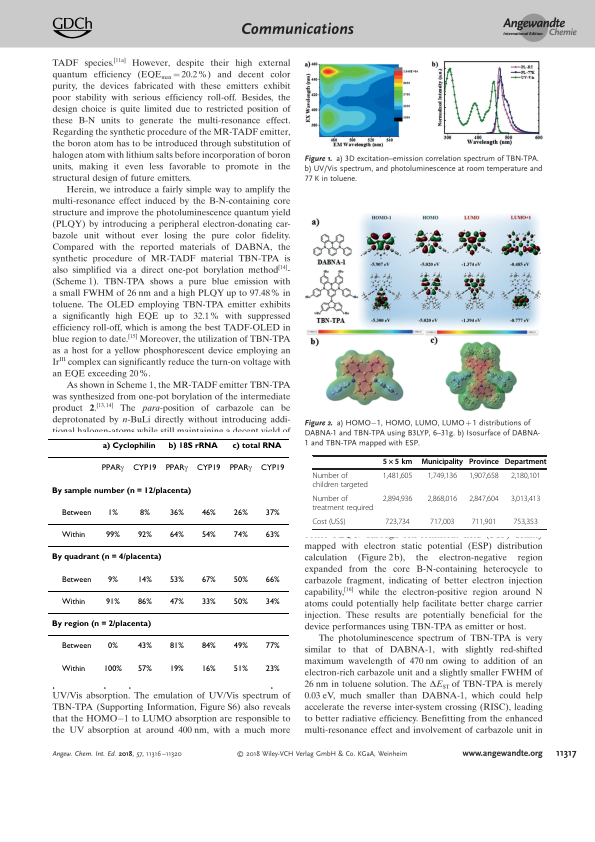borderless: (46, 437, 290, 681), (311, 454, 547, 529)
cell: (50, 486, 192, 496), (312, 494, 374, 512), (312, 471, 369, 489), (50, 553, 162, 562), (50, 620, 152, 629), (100, 453, 124, 475), (164, 453, 188, 475), (228, 453, 252, 475), (101, 442, 156, 451), (167, 442, 218, 451), (231, 442, 282, 451), (420, 458, 464, 467), (504, 458, 547, 467), (426, 471, 458, 481), (468, 471, 500, 481), (312, 517, 347, 526), (382, 471, 413, 481), (510, 471, 541, 481), (468, 458, 500, 467), (426, 494, 458, 503), (468, 494, 500, 503), (382, 458, 413, 467), (382, 494, 413, 503), (510, 494, 541, 503), (60, 508, 92, 516), (60, 575, 92, 583), (60, 642, 92, 650), (384, 517, 411, 526), (512, 517, 539, 526), (429, 517, 455, 526), (471, 517, 497, 526), (60, 597, 86, 605), (60, 664, 86, 672), (132, 464, 157, 472), (196, 464, 221, 472), (260, 464, 285, 472), (60, 531, 86, 538), (102, 664, 122, 672), (168, 508, 184, 516), (200, 508, 216, 516), (232, 508, 248, 516), (264, 508, 280, 516), (136, 575, 152, 583), (168, 575, 184, 583), (200, 575, 216, 583), (232, 575, 248, 583), (264, 575, 280, 583), (104, 597, 120, 605), (136, 597, 152, 605), (168, 597, 184, 605), (200, 597, 216, 605), (232, 597, 248, 605), (264, 597, 280, 605), (136, 642, 152, 650), (168, 642, 184, 650), (200, 642, 216, 650), (232, 642, 248, 650), (264, 642, 280, 650), (136, 664, 152, 672), (168, 664, 184, 672), (200, 664, 216, 672), (232, 664, 248, 672), (264, 664, 280, 672), (104, 531, 120, 538), (136, 531, 152, 538), (168, 531, 184, 538), (200, 531, 216, 538), (232, 531, 248, 538), (264, 531, 280, 538), (107, 508, 118, 516), (139, 508, 150, 516), (107, 575, 118, 583), (107, 642, 118, 650)
